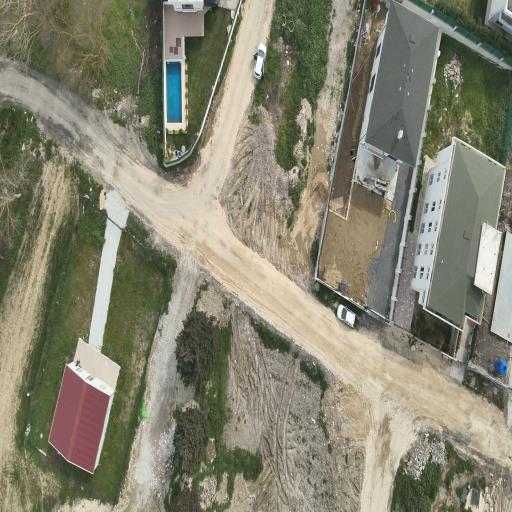car: (253, 43, 265, 78), (336, 304, 355, 326)
